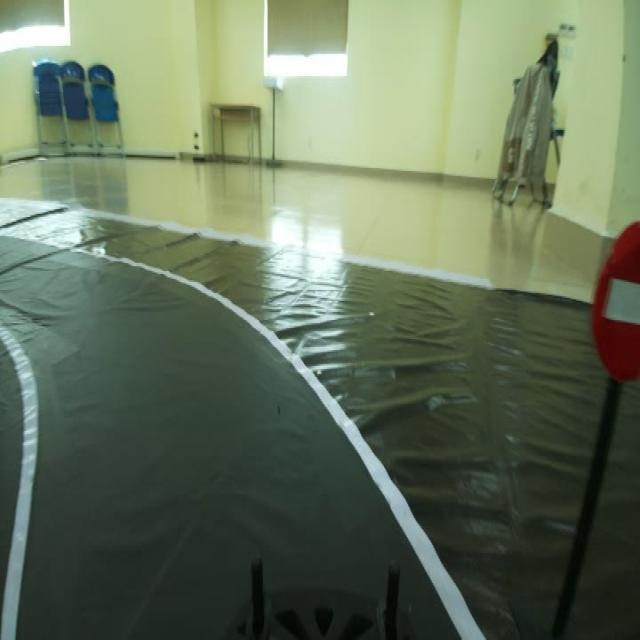no_entry: (591, 216, 640, 381)
